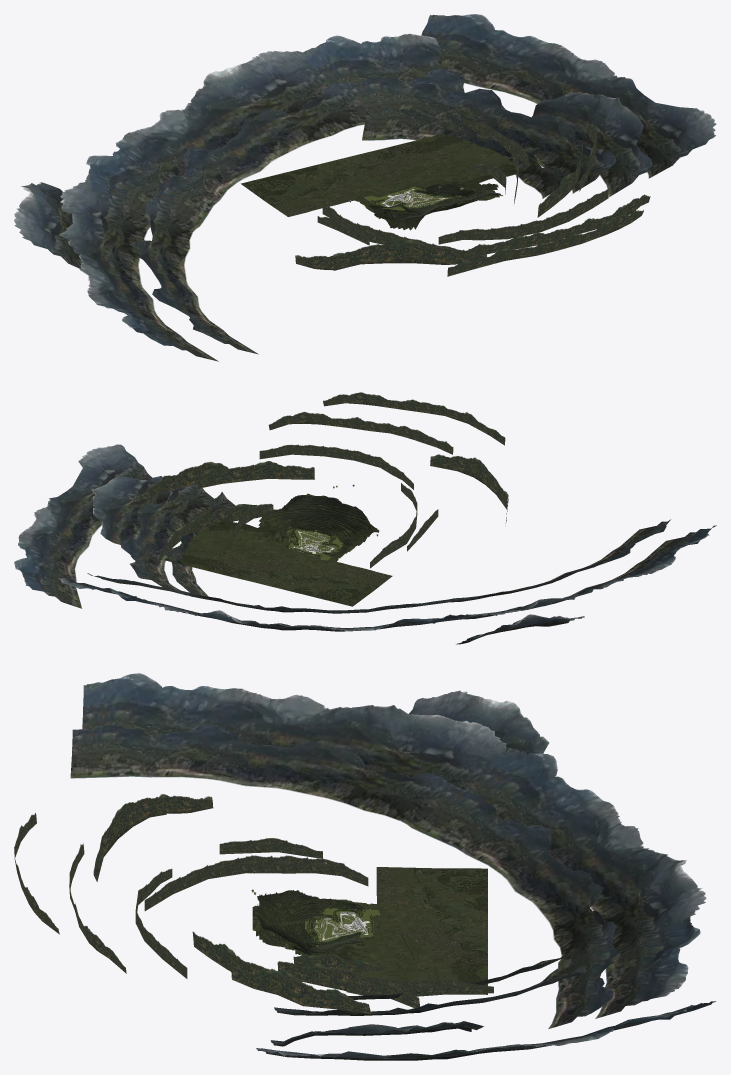
Rendered from red-bull-ring.glb.
3 views of the same model, one above another, from view 1: azimuth 30°, elevation 25°; view 2: azimuth 150°, elevation 25°; view 3: azimuth 270°, elevation 25° (orthographic). The views are drawn at different scales.
Visible parts, largest first — view 1: rbring; view 2: rbring; view 3: rbring.
Part boxes in pixels (x1,y1,x2,y2): rbring: (14,14,716,361); rbring: (14,392,716,644); rbring: (14,673,716,1060).
Bounding box in the file's own units: 16384 × 2020 × 12986.
Materials: 133 (133 with a texture image).
